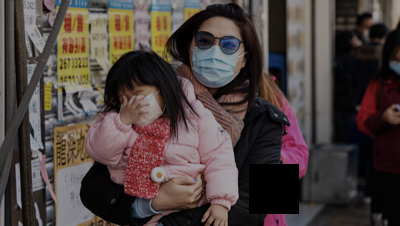with_mask: (189, 30, 245, 88), (118, 87, 163, 126), (387, 54, 400, 75)
